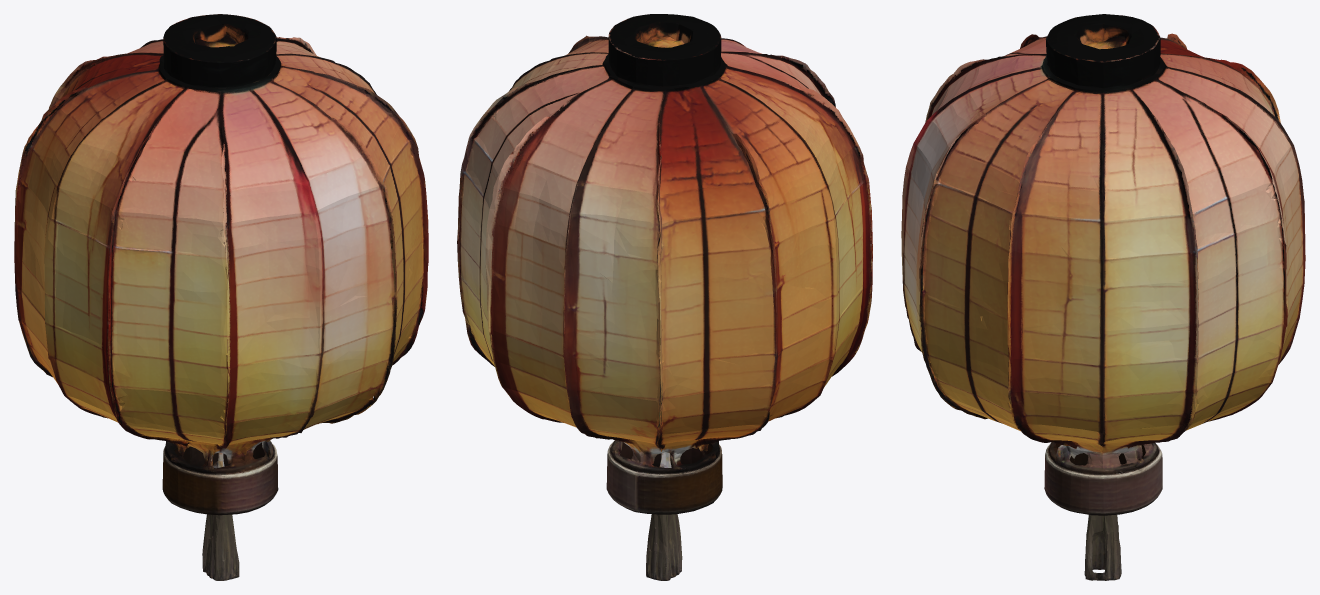
File: paper_lantern_569807_20251230_114831_20251230_115059.glb
3 renders of one model, left to right at view 1: azimuth 30°, elevation 25°; view 2: azimuth 150°, elevation 25°; view 3: azimuth 270°, elevation 25°, orthographic.
Parts seen in each view (by area): view 1: world; view 2: world; view 3: world.
Boxes of the visible parts, bbox=[...] form: world: bbox=[14, 14, 428, 580]; world: bbox=[457, 14, 872, 580]; world: bbox=[901, 14, 1305, 580].
Size of the model in its own units: 0.6712 by 0.9956 by 0.6753.
1 material, 1 textured.
